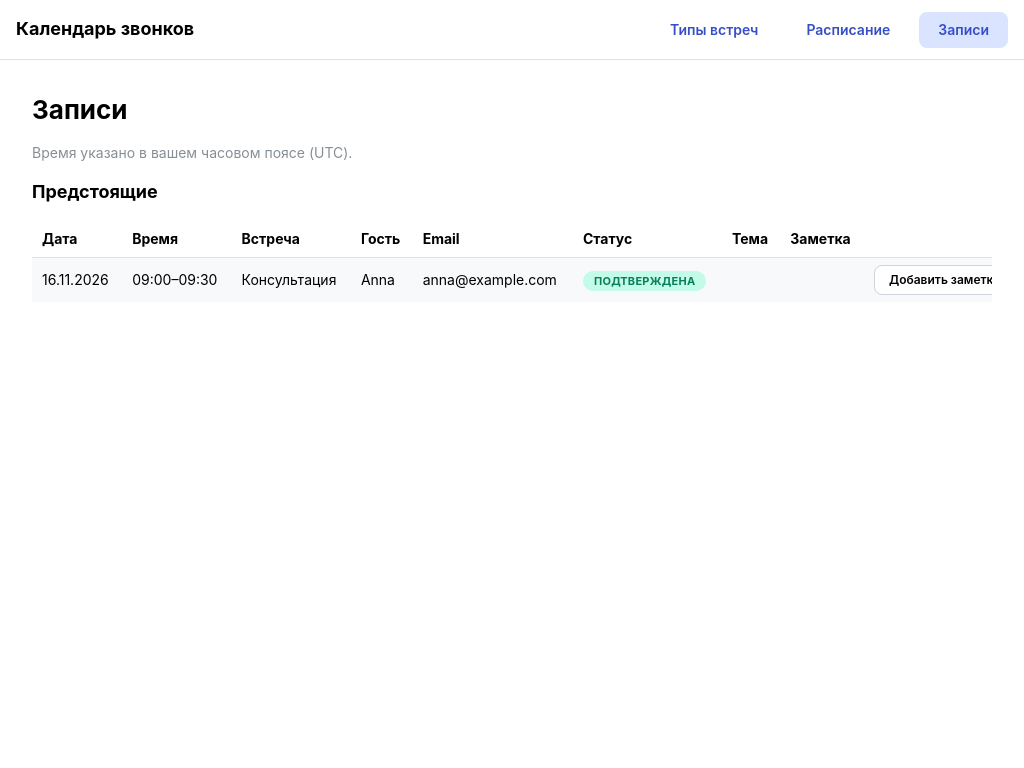
BookingsPage › shows a server error in the modal and keeps the entered note
Click the button with aria-label "Добавить заметку: Anna, 16.11.2026 09:00" at [945, 280], box [874, 265, 1016, 295]
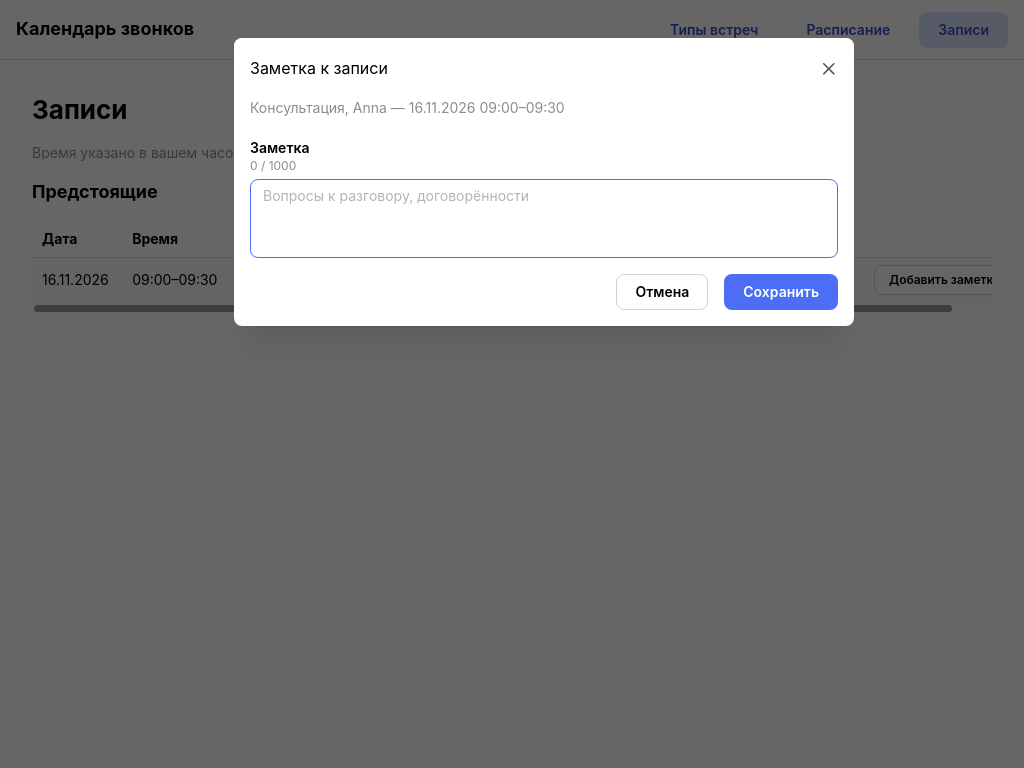
Type "Обсудить бюджет" into the text box labelled "Заметка" at [544, 218], box [250, 179, 838, 258]
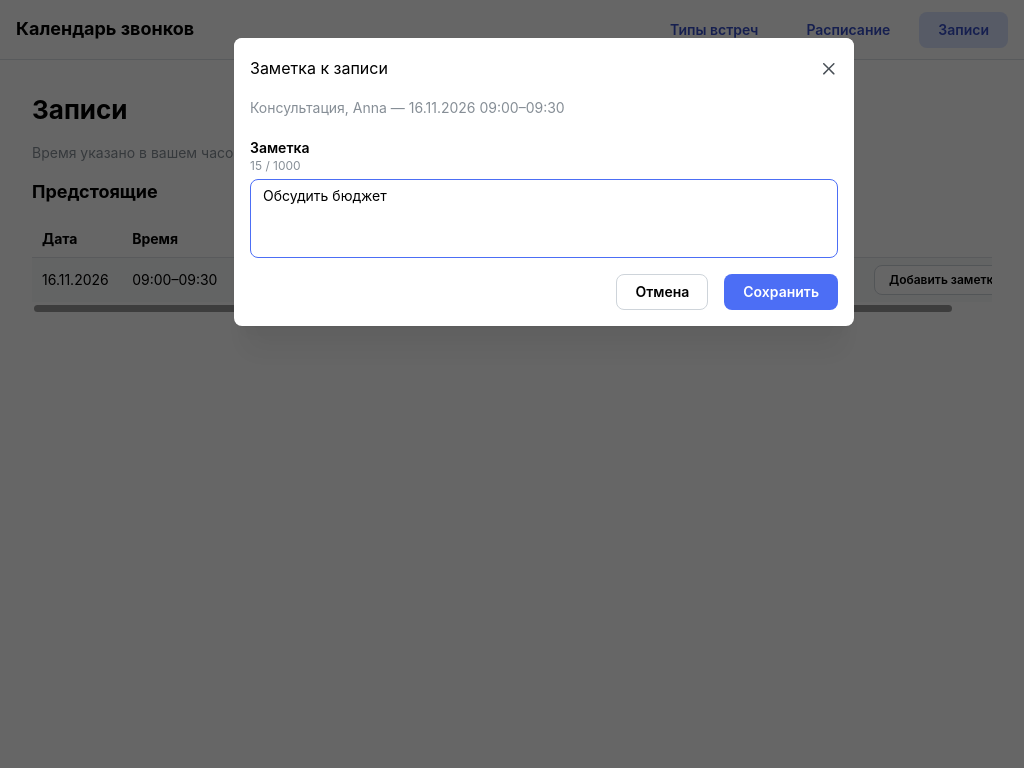
Click the button "Сохранить" at [781, 292], box [724, 274, 838, 310]
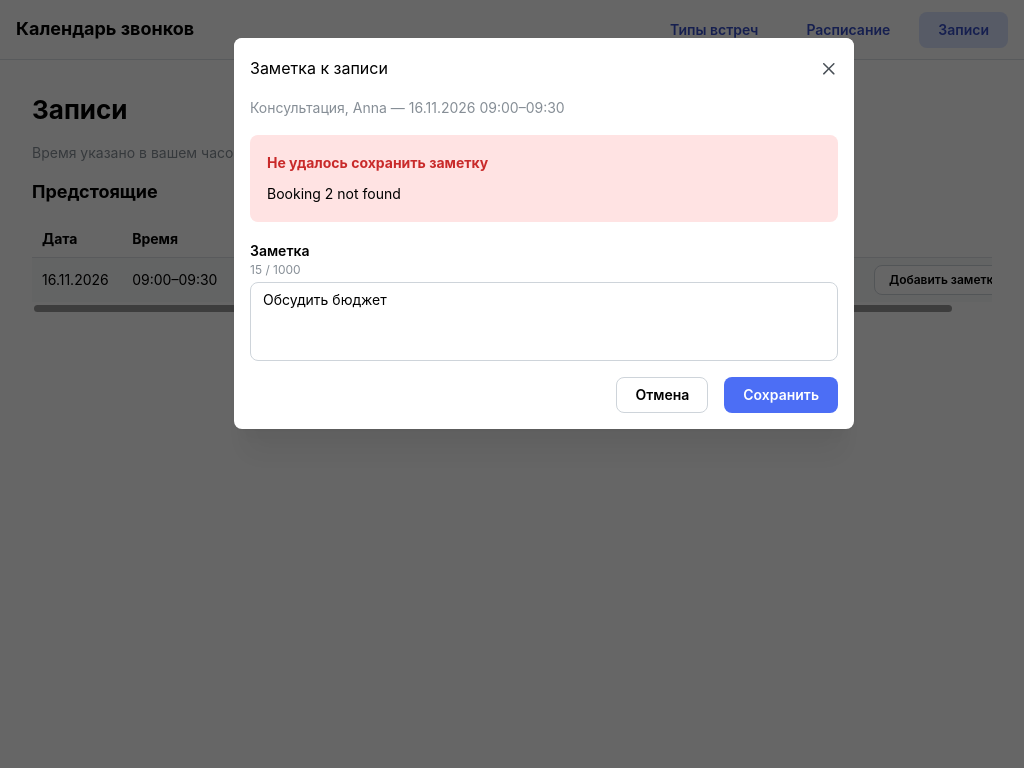
Expected: the cell is empty, [780, 258, 864, 302]
Expected: the text "Не удалось сохранить заметку" is shown, [267, 152, 488, 173]
Expected: the text "Booking 2 not found" is shown, [267, 185, 401, 202]
